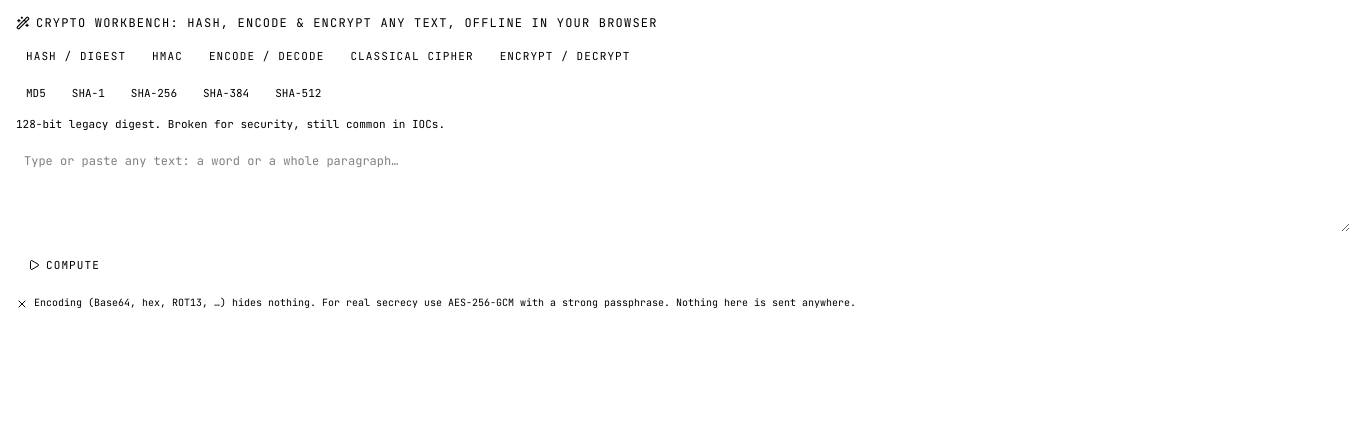
Test: <CryptoWorkbench> output controls › moves the output into the input via 'Use as input', then clears
Type "abc" into the text box named "Input text" at (683, 188), box [16,144,1350,232]
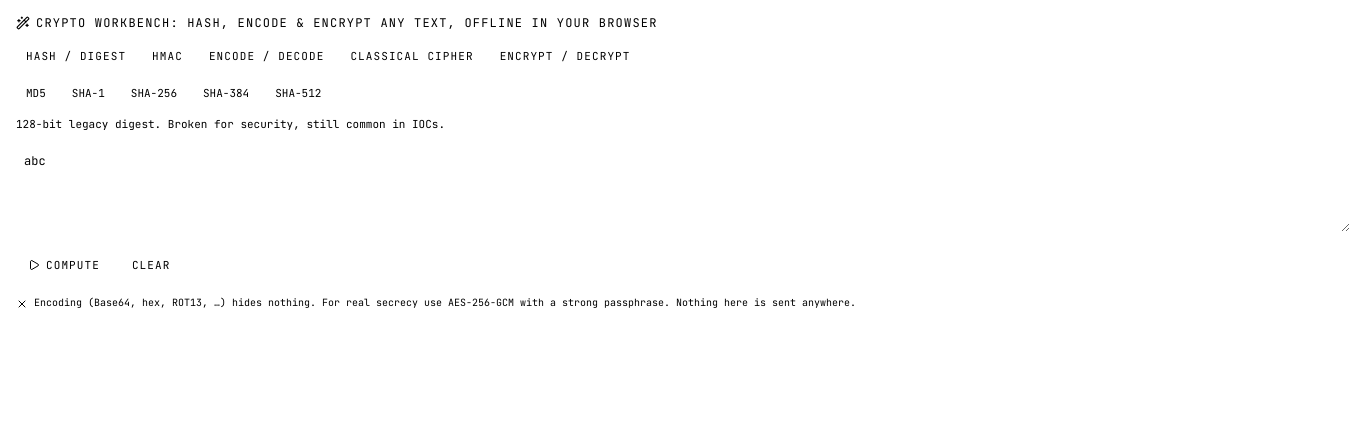
Click the button "Compute" at (64, 265), box [16,251,112,280]
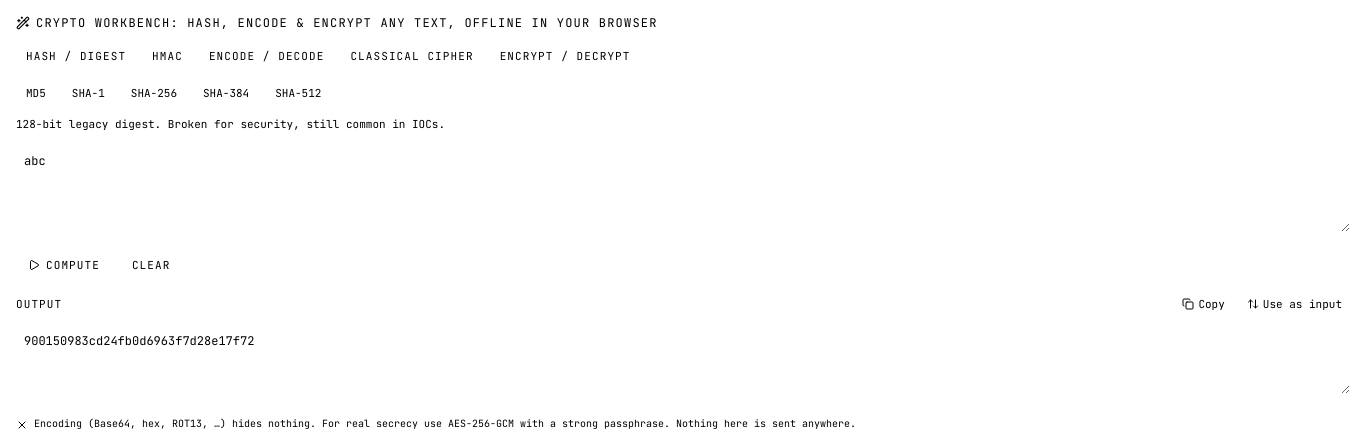
Click the button "Use as input" at (1294, 304), box [1239,292,1350,316]
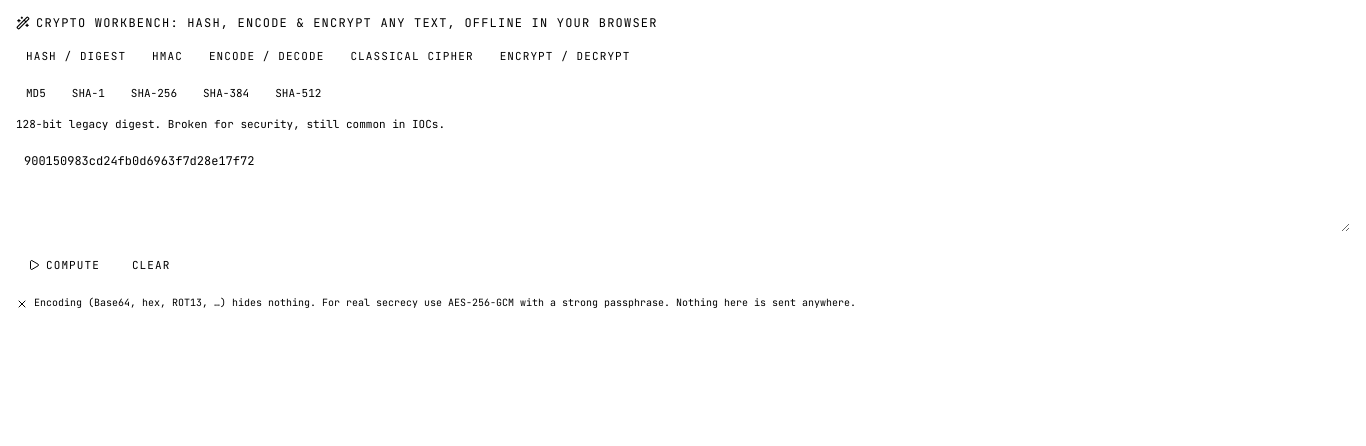
Expected: the text box named "Input text" holds "900150983cd24fb0d6963f7d28e17f72", [16,144,1350,232]
Expected: the text labelled "Output" is gone
Click the button "Clear" at (151, 265), box [120,251,182,280]
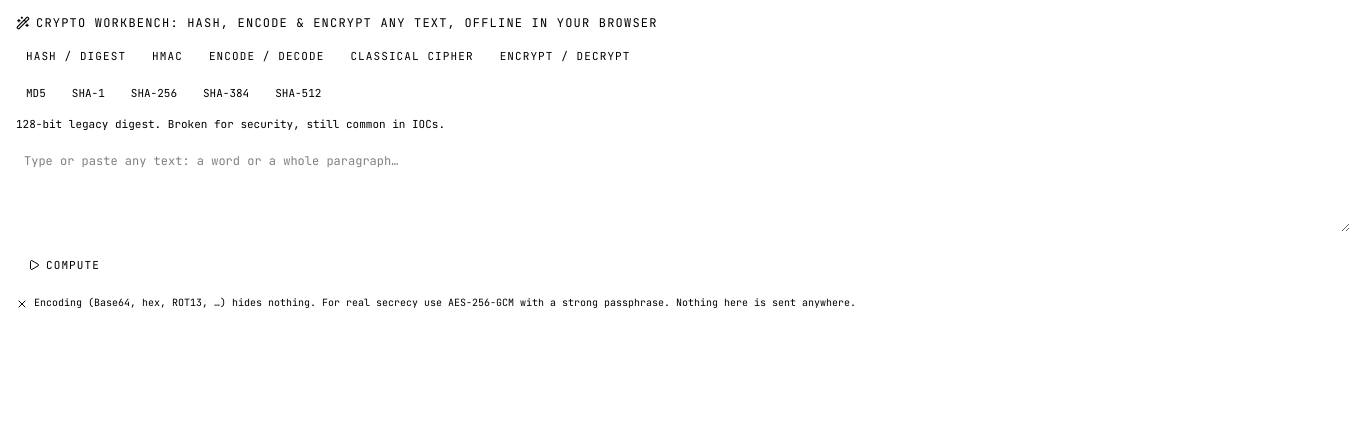
Expected: the text box named "Input text" is empty, [16,144,1350,232]
